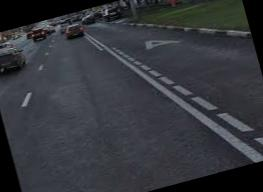bus_line: (84, 21, 263, 161)
